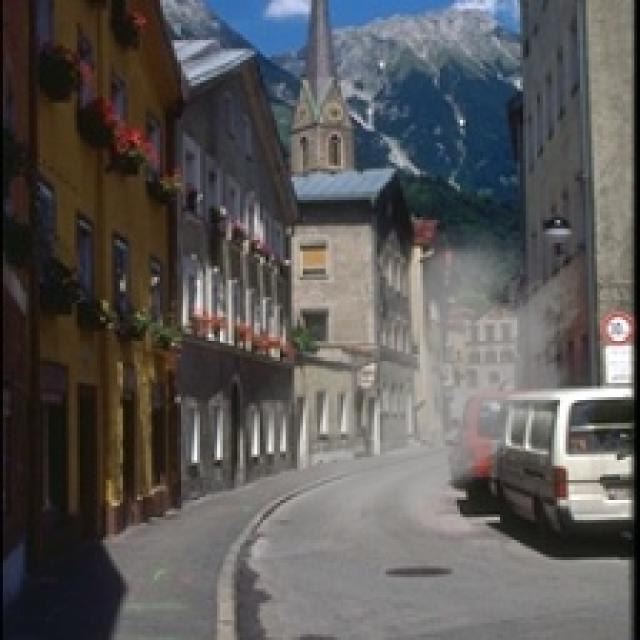smoke: (217, 209, 594, 560)
